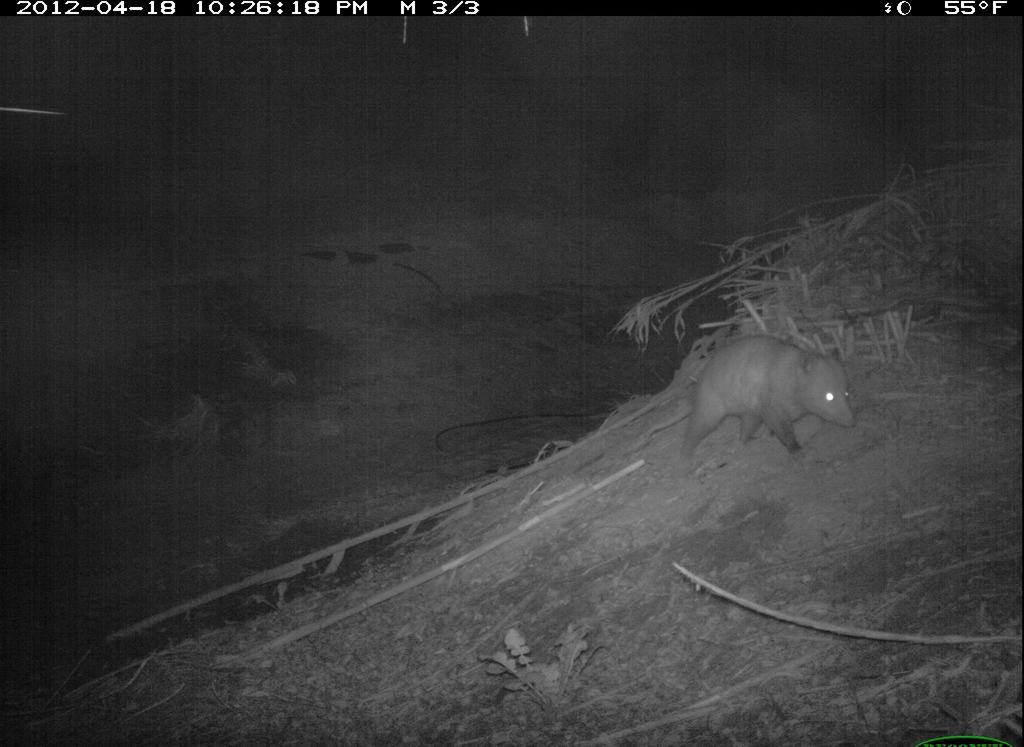opossum: (651, 323, 861, 472)
